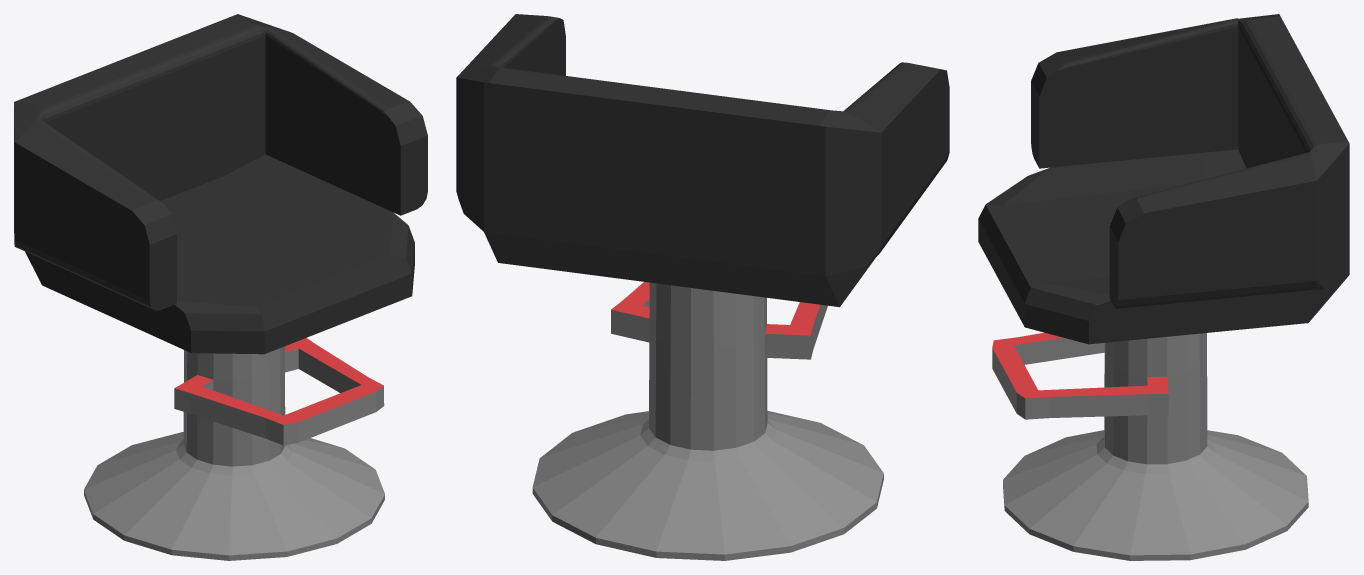
Rendered from Chair.fbx.
The picture shows the model from 3 angles, left to right: view 1: azimuth 30°, elevation 25°; view 2: azimuth 150°, elevation 25°; view 3: azimuth 270°, elevation 25°; orthographic projection. The views are drawn at different scales.
Parts seen in each view (by area): view 1: Stol; view 2: Stol; view 3: Stol.
Boxes of the visible parts, bbox=[...] form: Stol: bbox=[14, 14, 427, 560]; Stol: bbox=[456, 14, 949, 560]; Stol: bbox=[978, 14, 1349, 560].
Bounding box in the file's own units: 780 × 810 × 678.
